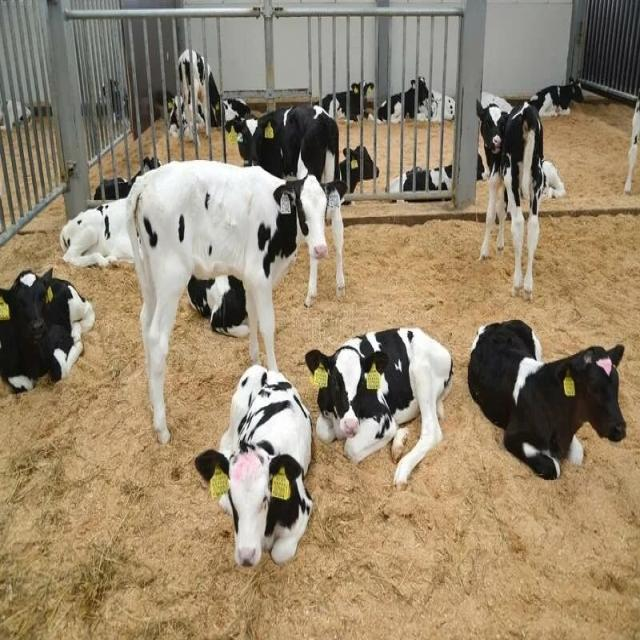cow: (123, 158, 327, 444), (466, 318, 626, 480), (304, 325, 454, 490), (194, 362, 314, 568), (232, 103, 348, 308), (476, 96, 546, 300), (0, 265, 95, 394), (59, 196, 135, 268), (385, 152, 485, 202), (338, 144, 379, 205), (320, 80, 374, 121), (528, 77, 583, 116), (623, 95, 639, 195), (540, 159, 566, 200)
